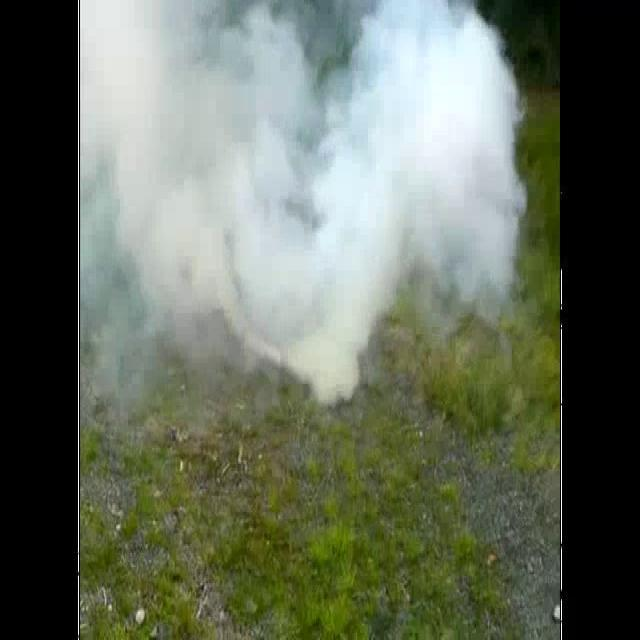Smoke: (80, 0, 530, 421)
